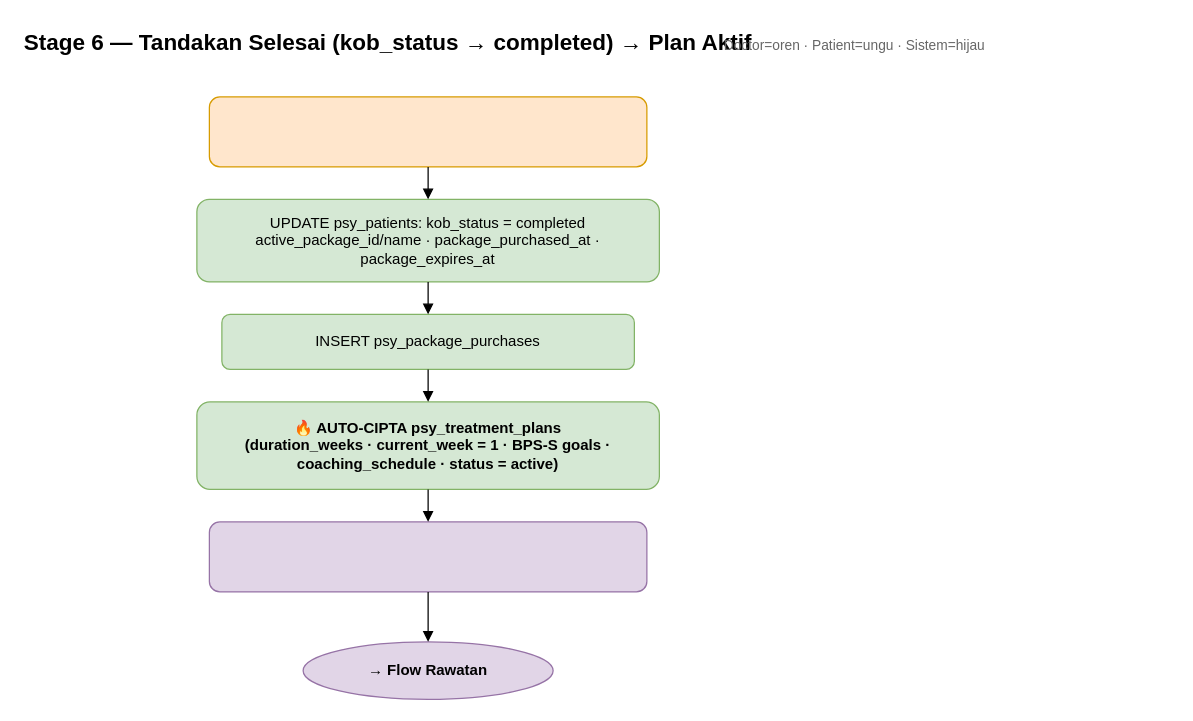
Image size: 1193x721. Some labels were removed from this diagram. The centre of each missing label's shape, as x and y in pixels:
Doctor: Tekan “Tandakan Selesai” → psy_kob_sessions.status = completed: the point at 427,131
Patient: “Tahniah! KOB Selesai 🎉” → auto-redirect plan.html: the point at 427,556
